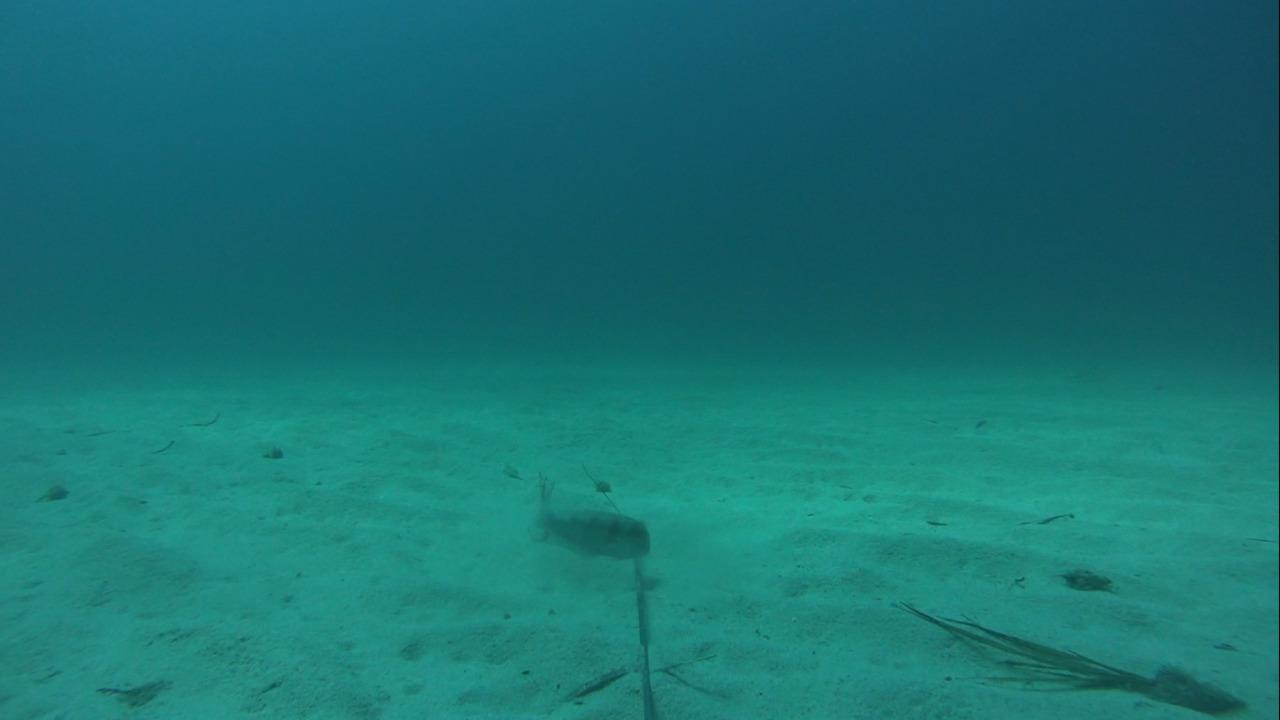raor: (529, 506, 655, 563)
